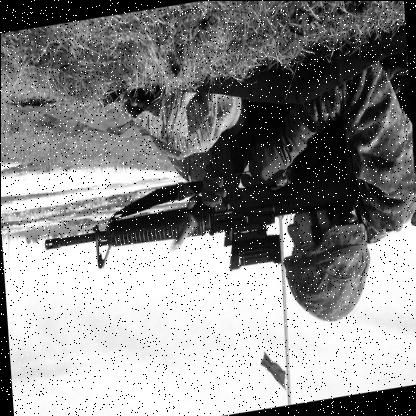rifle: (35, 99, 356, 302)
